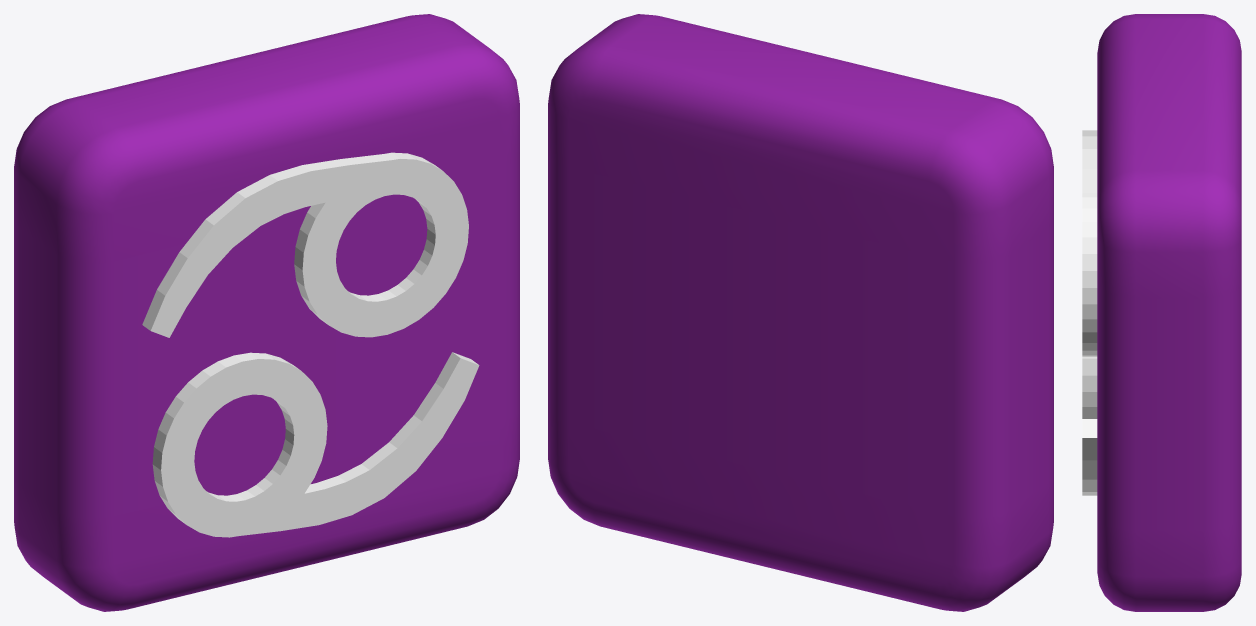
File: cancer.glb
3 renders of one model, left to right at view 1: azimuth 30°, elevation 25°; view 2: azimuth 150°, elevation 25°; view 3: azimuth 270°, elevation 25°, orthographic. The views are drawn at different scales.
Visible parts, largest first — view 1: Cube.6402; view 2: Cube.6402; view 3: Cube.6402.
Boxes of the visible parts, <box> form: Cube.6402: <box>14,14,519,611</box>; Cube.6402: <box>548,14,1053,611</box>; Cube.6402: <box>1082,14,1241,611</box>.
Size of the model in its own units: 2.2 by 2.2 by 0.73.
1 material, 1 textured.
